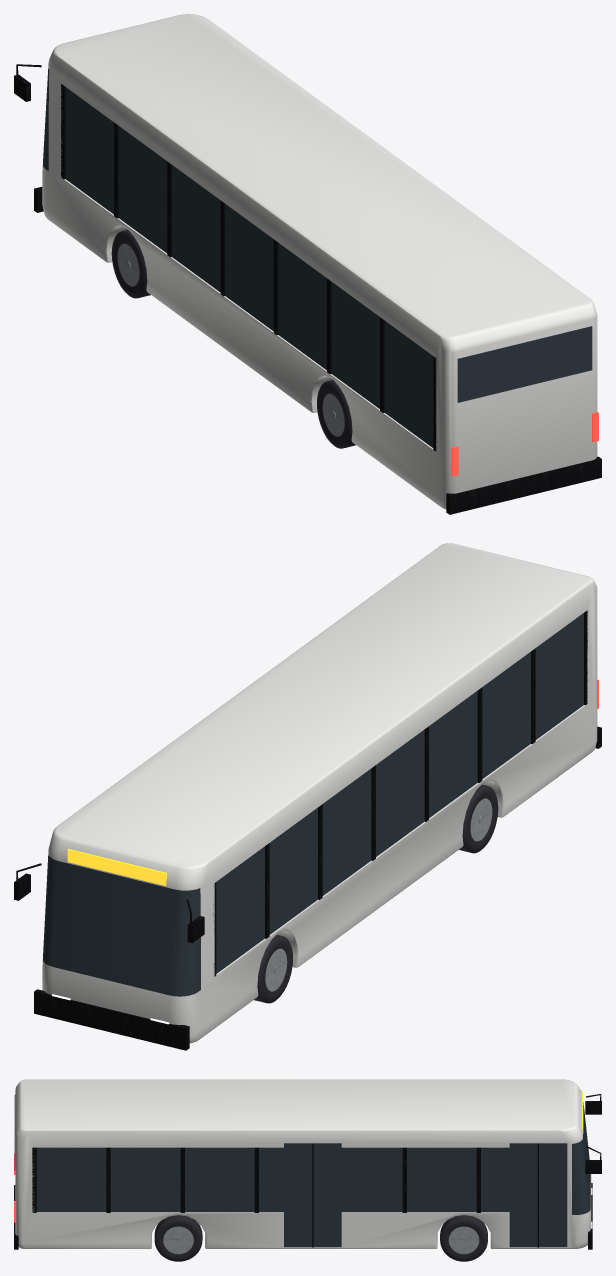
Rendered from bus_city_white.gltf.
3 views of the same model, one above another, from view 1: azimuth 30°, elevation 25°; view 2: azimuth 150°, elevation 25°; view 3: azimuth 270°, elevation 25° (orthographic). The views are drawn at different scales.
Visible parts, largest first — view 1: bus_city_white; view 2: bus_city_white; view 3: bus_city_white.
Boxes of the visible parts, left/top/right/bottom form: bus_city_white: left=14, top=14, right=601, bottom=514; bus_city_white: left=14, top=543, right=601, bottom=1050; bus_city_white: left=14, top=1079, right=601, bottom=1261.
Bounding box in the file's own units: 2.99 × 3.05 × 12.26.
10 materials, 4 textured.
